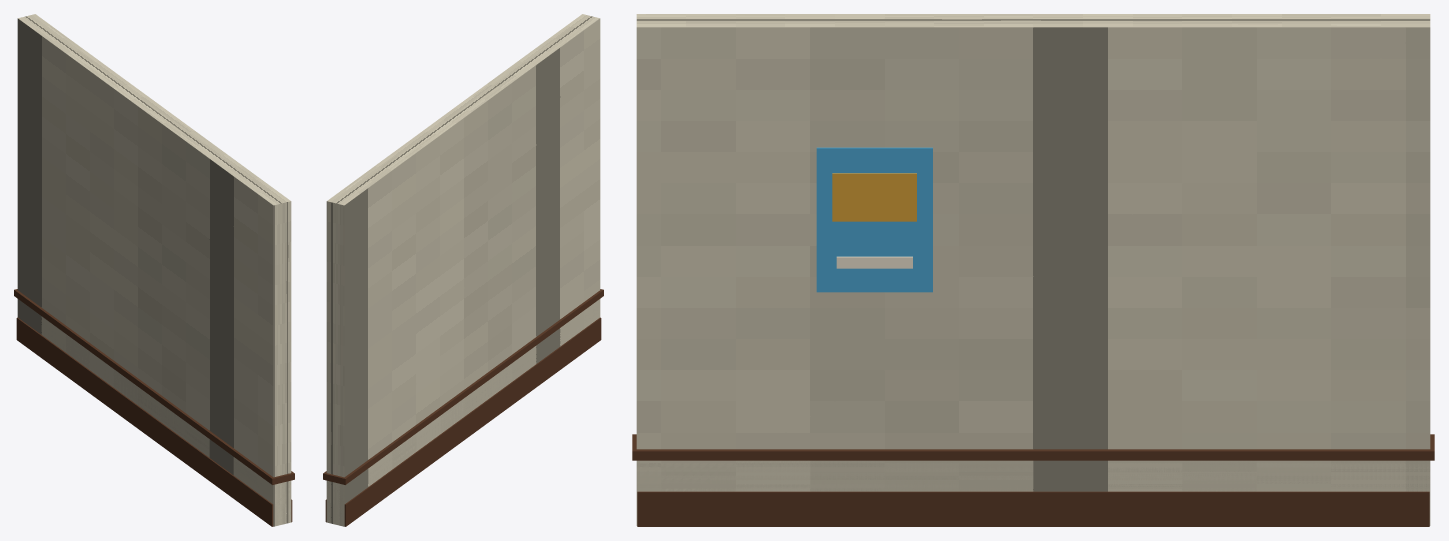
The model's file is back1.glb.
The picture shows the model from 3 angles, left to right: view 1: azimuth 30°, elevation 25°; view 2: azimuth 150°, elevation 25°; view 3: azimuth 270°, elevation 25°; orthographic projection. The views are drawn at different scales.
Visible parts, largest first — view 1: Box1, Box2, Box6, Box7; view 2: Box1, Box2, Box7, Box6; view 3: Box1, Box2, Box6, Box3, Box7, Box4, Box5.
Part boxes in pixels (box(x1,y1,x2,y2)): Box1: box(17, 14, 291, 526); Box2: box(16, 317, 292, 526); Box6: box(19, 302, 291, 526); Box7: box(14, 289, 294, 484); Box1: box(326, 14, 600, 526); Box2: box(325, 317, 601, 526); Box7: box(323, 289, 603, 484); Box6: box(326, 304, 598, 526); Box1: box(636, 14, 1430, 525); Box2: box(637, 491, 1429, 526); Box6: box(636, 460, 1430, 524); Box3: box(816, 147, 932, 292); Box7: box(632, 434, 1434, 460); Box4: box(832, 173, 916, 221); Box5: box(836, 256, 912, 268).
Size of the model in its own units: 0.19 by 2.6 by 3.79.
5 materials, 1 textured.
